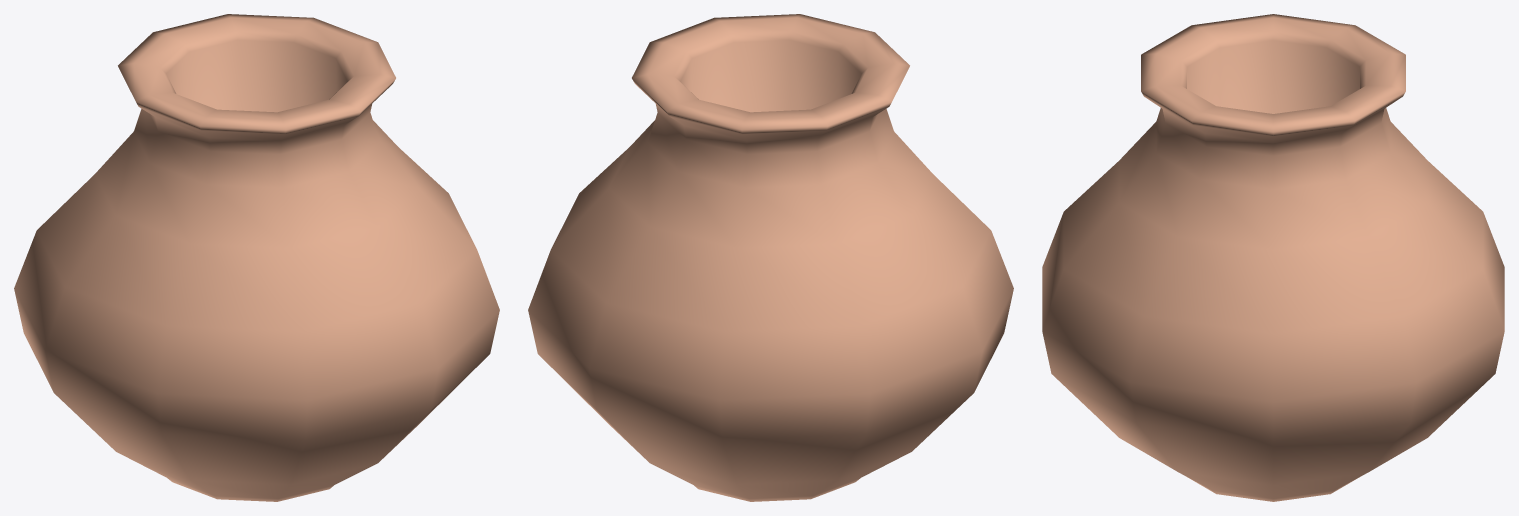
The model's file is pot1.fbx.
3 renders of one model, left to right at view 1: azimuth 30°, elevation 25°; view 2: azimuth 150°, elevation 25°; view 3: azimuth 270°, elevation 25°, orthographic.
Visible parts, largest first — view 1: pot1_tall_vase; view 2: pot1_tall_vase; view 3: pot1_tall_vase.
Part boxes in pixels (x1=…): pot1_tall_vase: x1=14, y1=14, x2=499, y2=501; pot1_tall_vase: x1=528, y1=14, x2=1013, y2=501; pot1_tall_vase: x1=1042, y1=14, x2=1504, y2=501.
Bounding box in the file's own units: 150 × 133 × 143.
